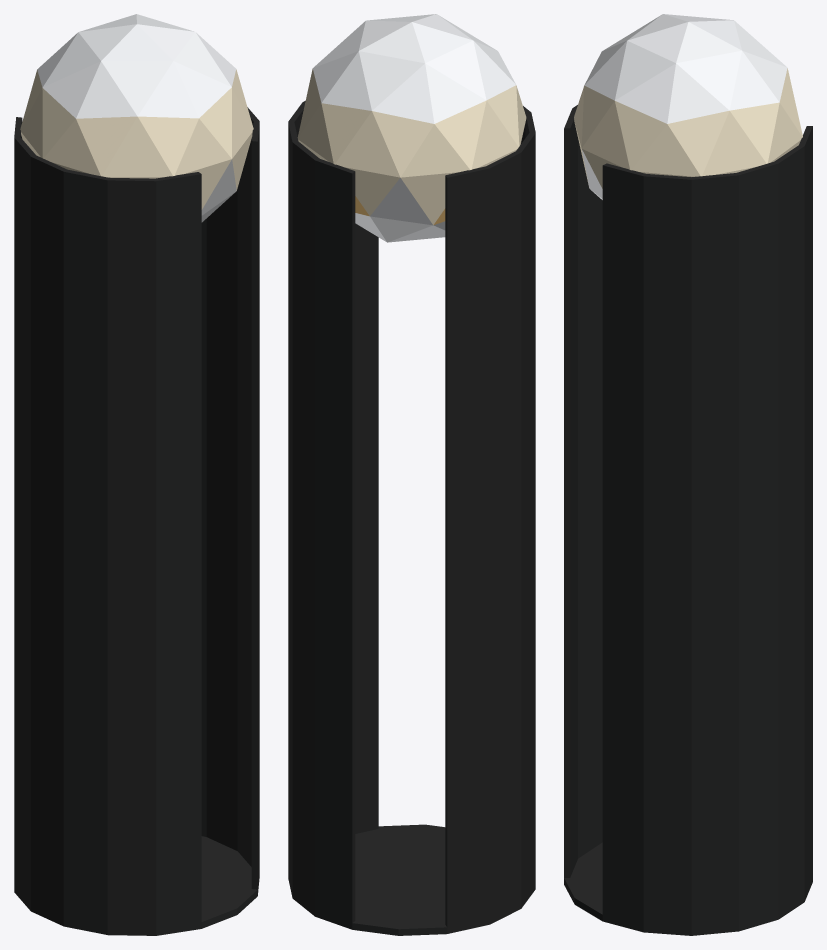
File: Accesories_Icosphere_lamp.glb
3 renders of one model, left to right at view 1: azimuth 30°, elevation 25°; view 2: azimuth 150°, elevation 25°; view 3: azimuth 270°, elevation 25°, orthographic.
Visible parts, largest first — view 1: Accesories_Icosphere_lamp; view 2: Accesories_Icosphere_lamp; view 3: Accesories_Icosphere_lamp.
Part boxes in pixels (x1,y1,x2,y2): Accesories_Icosphere_lamp: (14, 14, 259, 935); Accesories_Icosphere_lamp: (288, 14, 535, 935); Accesories_Icosphere_lamp: (564, 14, 812, 935).
Bounding box in the file's own units: 0.3306 × 1.26 × 0.3306.
Materials: 1 (1 with a texture image).
